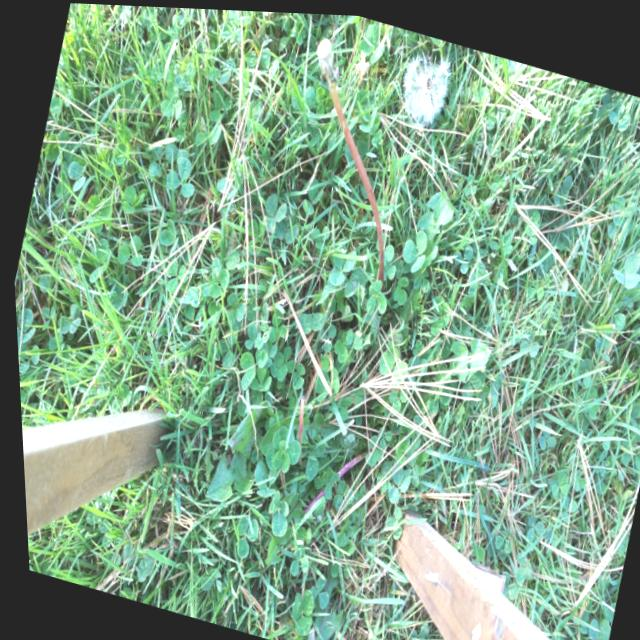base: (363, 261, 389, 297)
